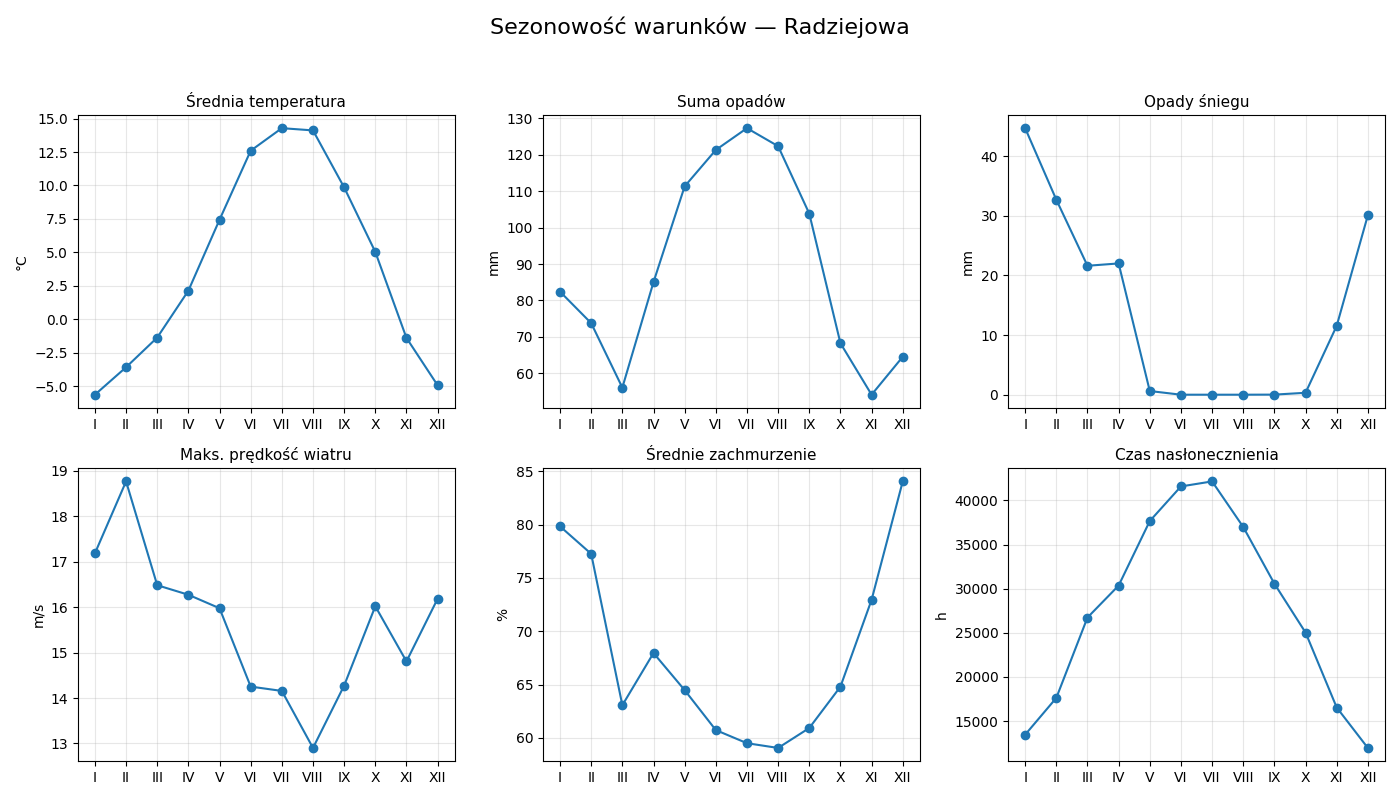

This screenshot's page, from the dashboard's own definition file:
{"tool":"powerbi","page":{"name":"Sezonowość","canvas":[1280,720],"ordinal":1},"visuals":[{"type":"shape","box":[5.4,271.1,591.2,127.9],"z":0},{"type":"pivotTable","fields":{"Rows":["kgp_all_monthly_clean.Szczyt"],"Columns":["Calendar.MonthName"],"Values":["HeatmapMetric.HeatmapValue"]},"box":[636.6,0,612.1,720],"z":1000},{"type":"advancedSlicerVisual","title":"Analizowana zmienna","fields":{"Values":["HeatmapMetric.Label"]},"box":[0,81.6,602.1,130.6],"z":2000},{"type":"textbox","box":[0,0,630.2,70],"z":3000},{"type":"actionButton","box":[1241,7,38,28],"z":4000},{"type":"cardVisual","title":"Najwyższe średnie odchylenie","fields":{"Data":["HeatmapMetric.KPI Max - Miesiąc"]},"box":[15.4,292.9,266.6,119.7],"z":5000},{"type":"textbox","box":[0,235.8,521.4,57.1],"z":6000},{"type":"cardVisual","title":"Najniższe średnie odchylenie","fields":{"Data":["HeatmapMetric.KPI Min - Miesiąc"]},"box":[331.9,292.9,259.3,119.7],"z":7000},{"type":"lineChart","fields":{"Category":["Calendar.MonthName"],"Y":["HeatmapMetric.KPI Średnie odchylenie"]},"box":[0,429.8,591.2,244.8],"z":8000},{"type":"textbox","box":[0,684.6,591.2,35.4],"z":9000}]}

Visuals, with their boxes in screenshot pixels (x1, y1, x2, y2), scaled from the page's 1280x720 canvas onto the 1400x800 screenshot:
shape: [6,301,653,443]
pivotTable - kgp_all_monthly_clean.Szczyt x Calendar.MonthName: [696,0,1366,799]
"Analizowana zmienna" advancedSlicerVisual: [0,91,659,236]
textbox: [0,0,689,78]
actionButton: [1357,8,1399,39]
"Najwyższe średnie odchylenie" cardVisual: [17,325,308,458]
textbox: [0,262,570,325]
"Najniższe średnie odchylenie" cardVisual: [363,325,647,458]
lineChart - Calendar.MonthName x HeatmapMetric.KPI Średnie odchylenie: [0,478,647,750]
textbox: [0,761,647,799]
